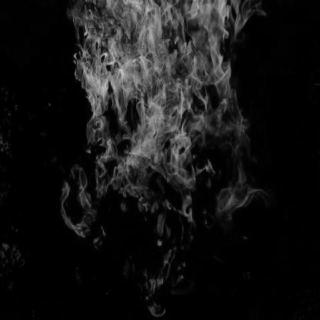Fire: (47, 2, 273, 320)
